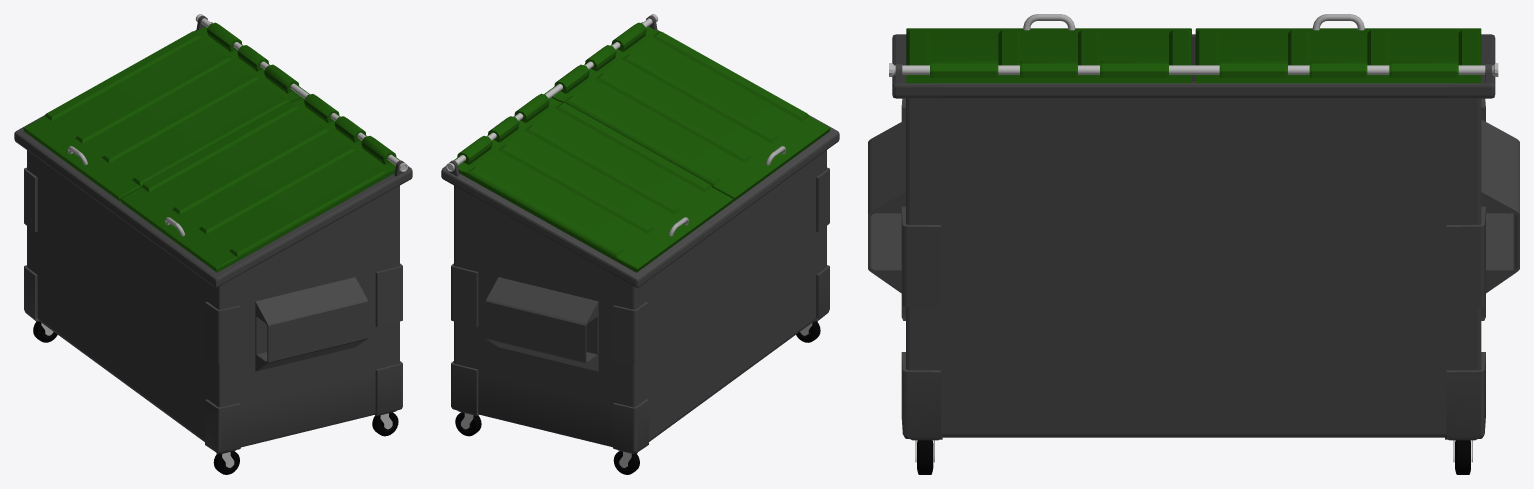
Rendered from Bin.fbx.
3 renders of one model, left to right at view 1: azimuth 30°, elevation 25°; view 2: azimuth 150°, elevation 25°; view 3: azimuth 270°, elevation 25°, orthographic. The views are drawn at different scales.
Visible parts, largest first — view 1: Box001, Box002, Box003, Cylinder003; view 2: Box001, Box003, Box002, Cylinder003; view 3: Box001, Box003, Box002, Cylinder003.
Part boxes in pixels (bbox=[...]): Box001: bbox=[14, 15, 412, 453]; Box002: bbox=[120, 93, 400, 272]; Box003: bbox=[23, 22, 308, 201]; Cylinder003: bbox=[195, 14, 407, 171]; Box001: bbox=[441, 15, 839, 453]; Box003: bbox=[453, 93, 733, 272]; Box002: bbox=[545, 22, 830, 201]; Cylinder003: bbox=[446, 14, 658, 171]; Box001: bbox=[868, 34, 1519, 440]; Box003: bbox=[1195, 28, 1481, 83]; Box002: bbox=[906, 28, 1191, 83]; Cylinder003: bbox=[889, 63, 1498, 76].
Size of the model in its own units: 37.58 by 50.73 by 72.07.
